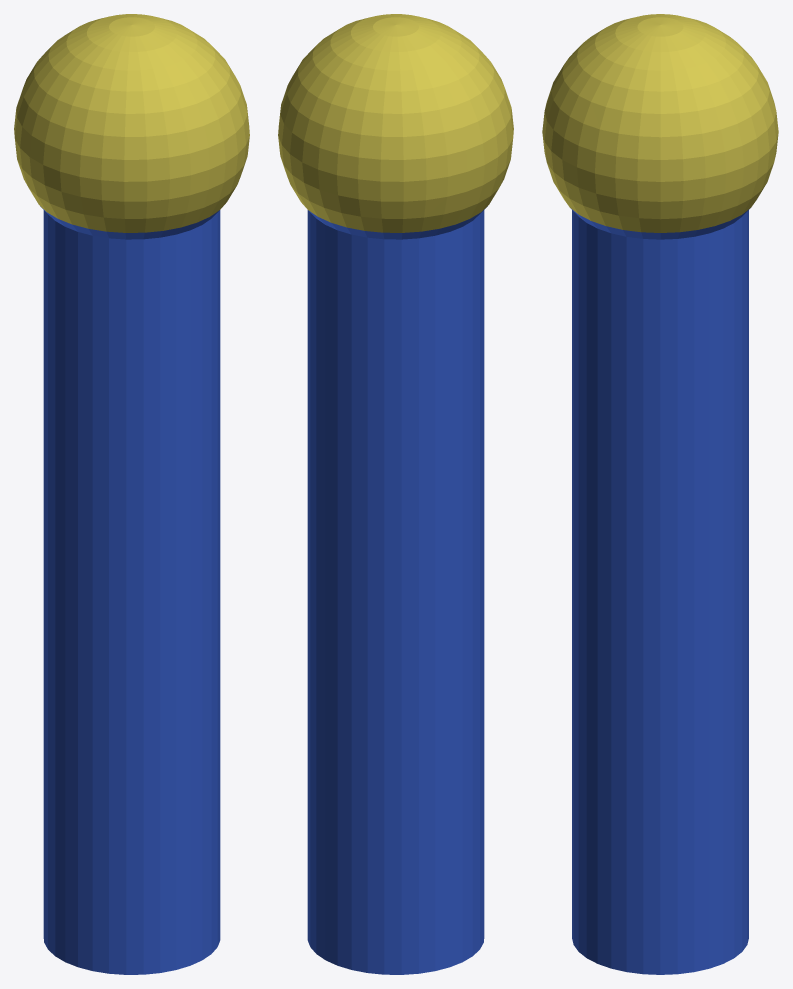
File: upperArm.dae
3 views of the same model, side by side, from view 1: azimuth 30°, elevation 25°; view 2: azimuth 150°, elevation 25°; view 3: azimuth 270°, elevation 25° (orthographic).
Parts seen in each view (by area): view 1: Cylinder; view 2: Cylinder; view 3: Cylinder.
Part boxes in pixels (x1,y1,x2,y2): Cylinder: [14, 14, 249, 974]; Cylinder: [278, 14, 513, 974]; Cylinder: [542, 14, 778, 974].
Bounding box in the file's own units: 0.08 × 0.08 × 0.3408.
